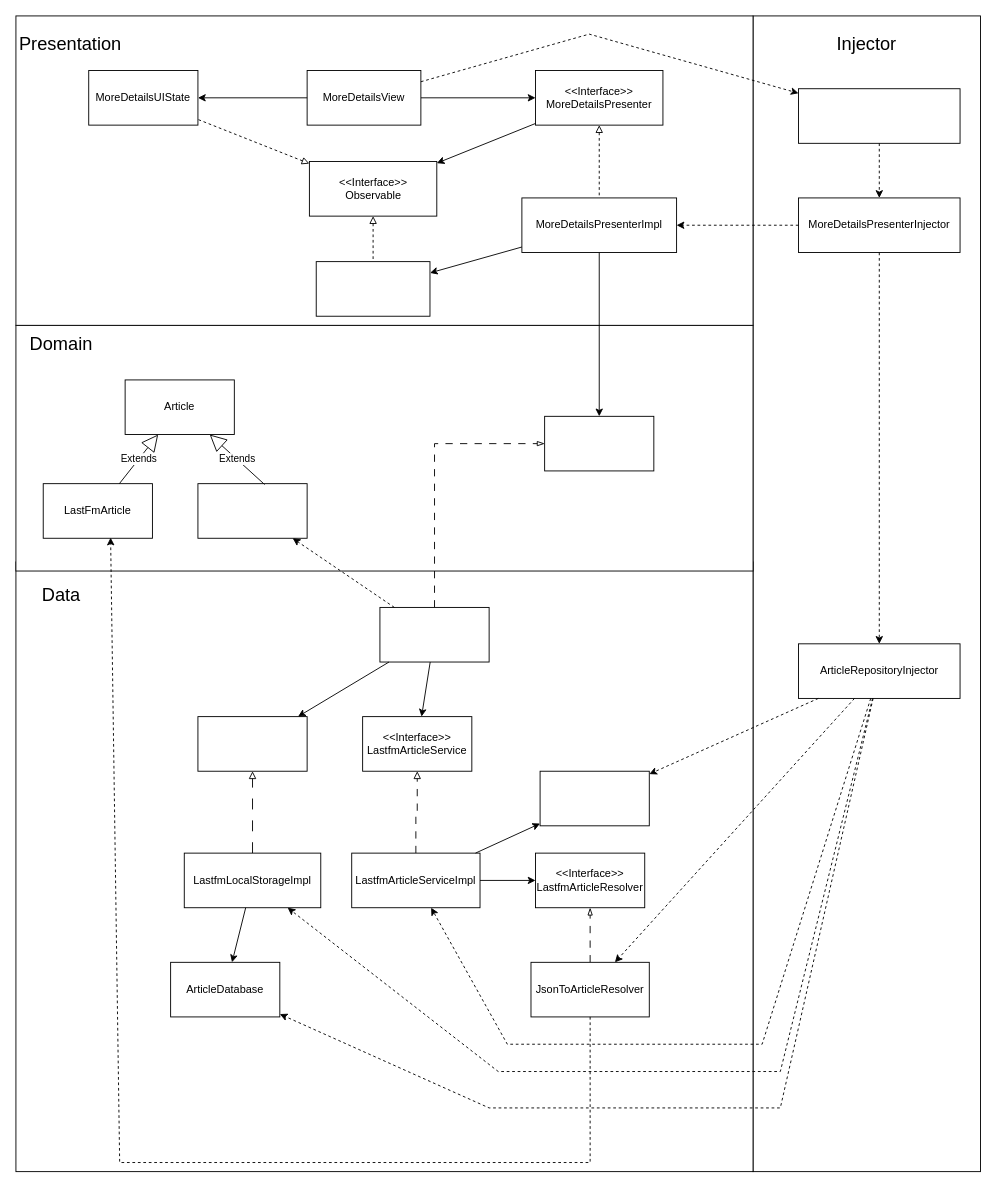
Image size: 996x1188. Some labels were removed from this diagram. Here are the shapes that lost their labels. From the top down, the box of each, then its label:
(798, 88, 960, 143): MoreDetailsViewInjector
(315, 261, 430, 316): Subject
(544, 415, 654, 471): <<Interface>> ArticleRepository
(197, 483, 307, 538): EmptyArticle
(379, 607, 489, 662): ArticleRepositoryImpl
(197, 716, 307, 771): <<Interface>> LastfmLocalStorage
(539, 770, 649, 826): <<Interface>> LastFMAPI
